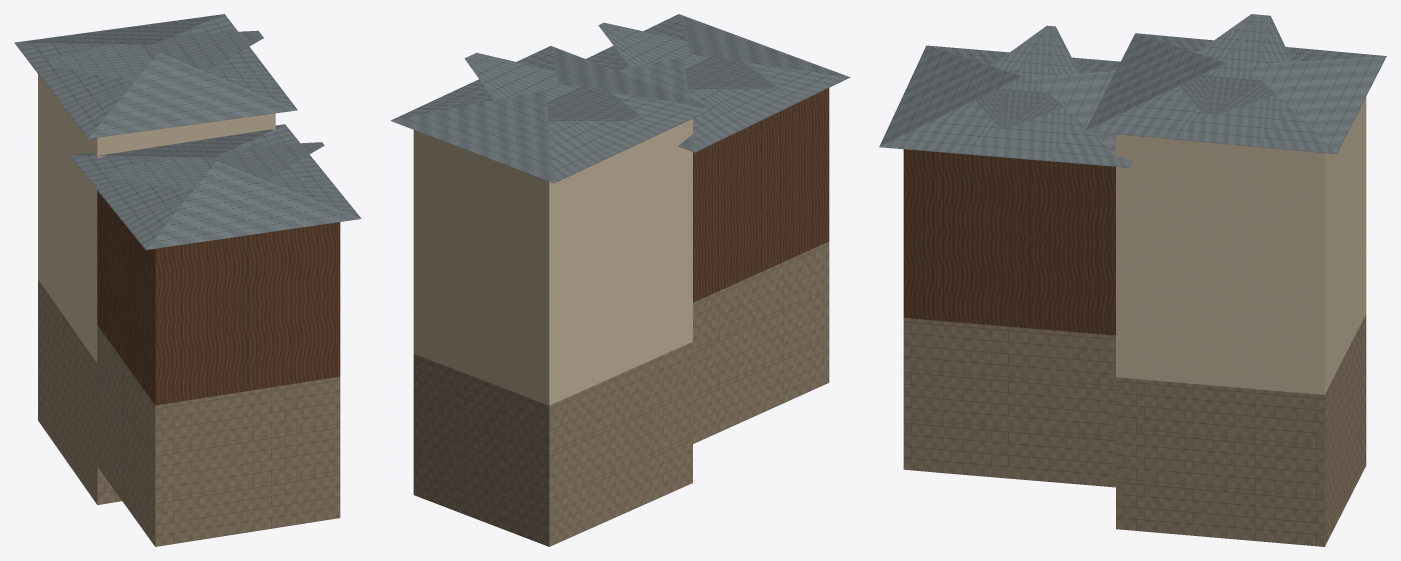
File: bld_c38_27_399.gltf
The picture shows the model from 3 angles, left to right: view 1: azimuth 30°, elevation 25°; view 2: azimuth 150°, elevation 25°; view 3: azimuth 270°, elevation 25°; orthographic projection. The views are drawn at different scales.
Parts seen in each view (by area): view 1: bld_c38_27_399; view 2: bld_c38_27_399; view 3: bld_c38_27_399.
Part boxes in pixels (x1,y1,x2,y2): bld_c38_27_399: (14, 14, 361, 546); bld_c38_27_399: (390, 14, 850, 546); bld_c38_27_399: (879, 14, 1386, 546).
Size of the model in its own units: 10.19 by 14.5 by 15.45.
Materials: 4 (4 with a texture image).
